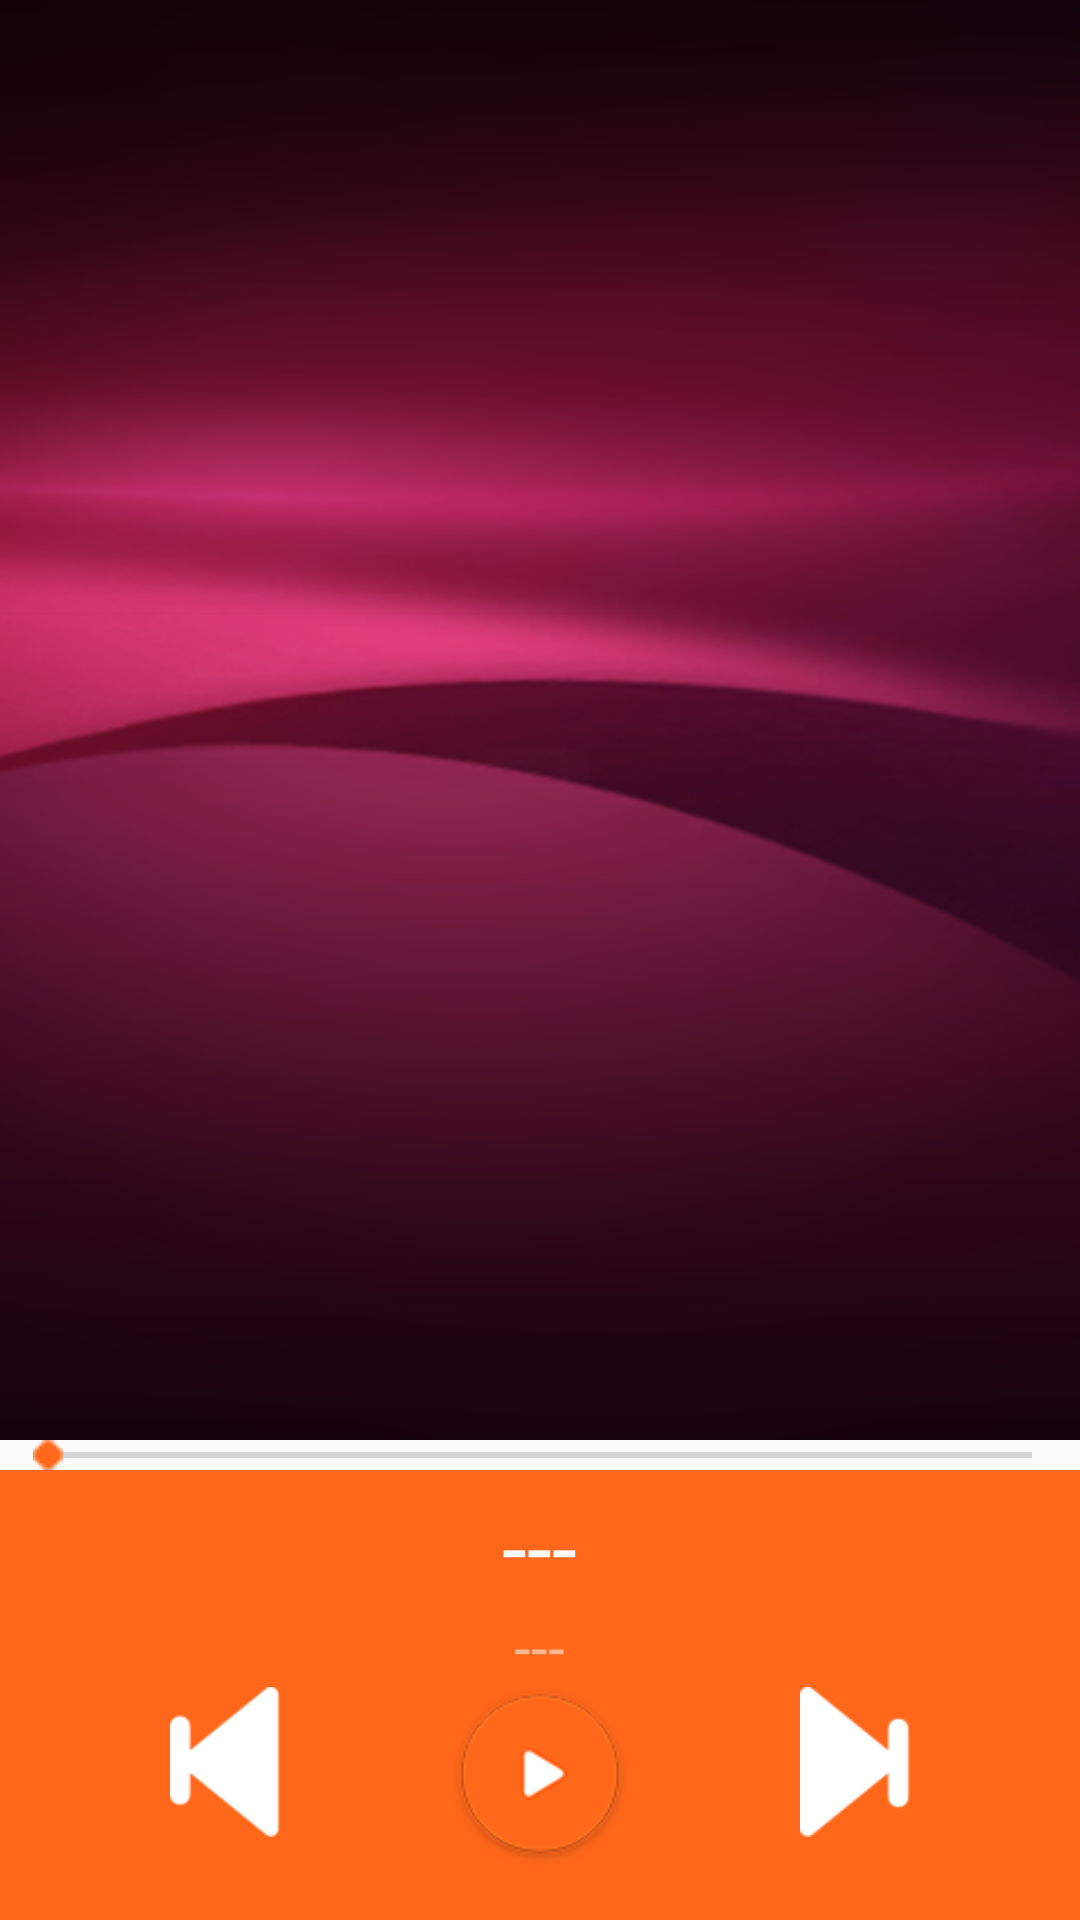

Icon click points for this 1080x1920 phone screenshot, format point (x, y):
next: point (855, 1762)
play: point (540, 1775)
previous: point (225, 1762)
